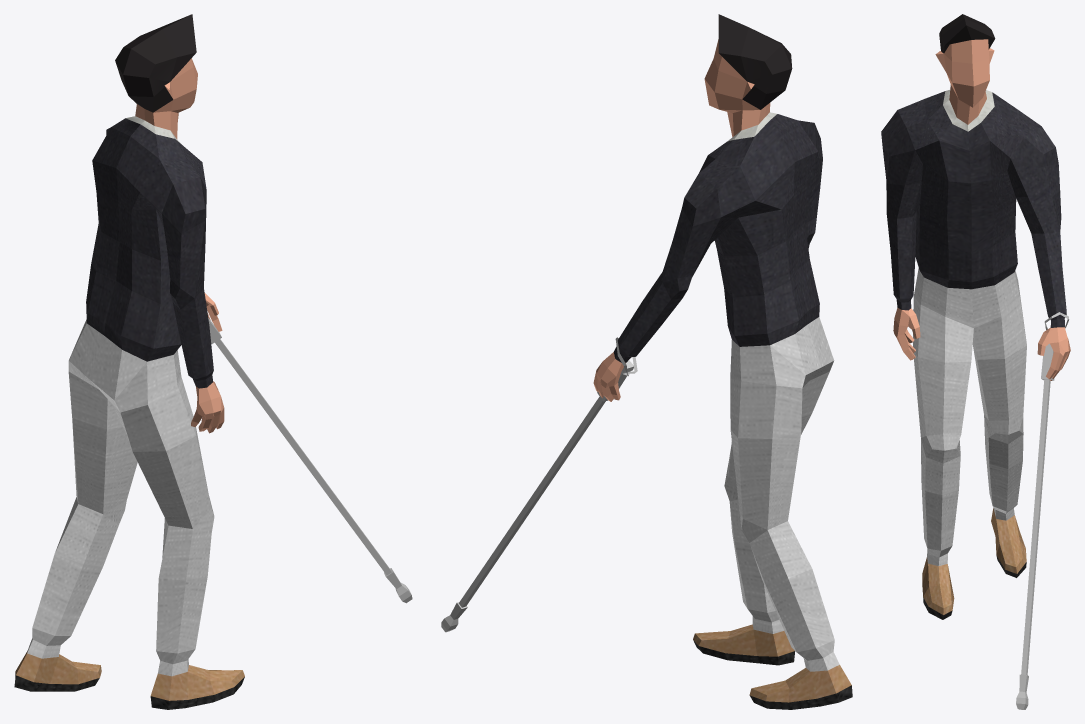
The model's file is Disabled People7.fbx.
3 renders of one model, left to right at view 1: azimuth 30°, elevation 25°; view 2: azimuth 150°, elevation 25°; view 3: azimuth 270°, elevation 25°, orthographic. The views are drawn at different scales.
Visible parts, largest first — view 1: OfficeManC.013; view 2: OfficeManC.013; view 3: OfficeManC.013.
Part boxes in pixels (bbox=[...]): OfficeManC.013: bbox=[14, 14, 412, 709]; OfficeManC.013: bbox=[441, 14, 852, 709]; OfficeManC.013: bbox=[881, 14, 1070, 709].
Bounding box in the file's own units: 112 × 175 × 51.86.
